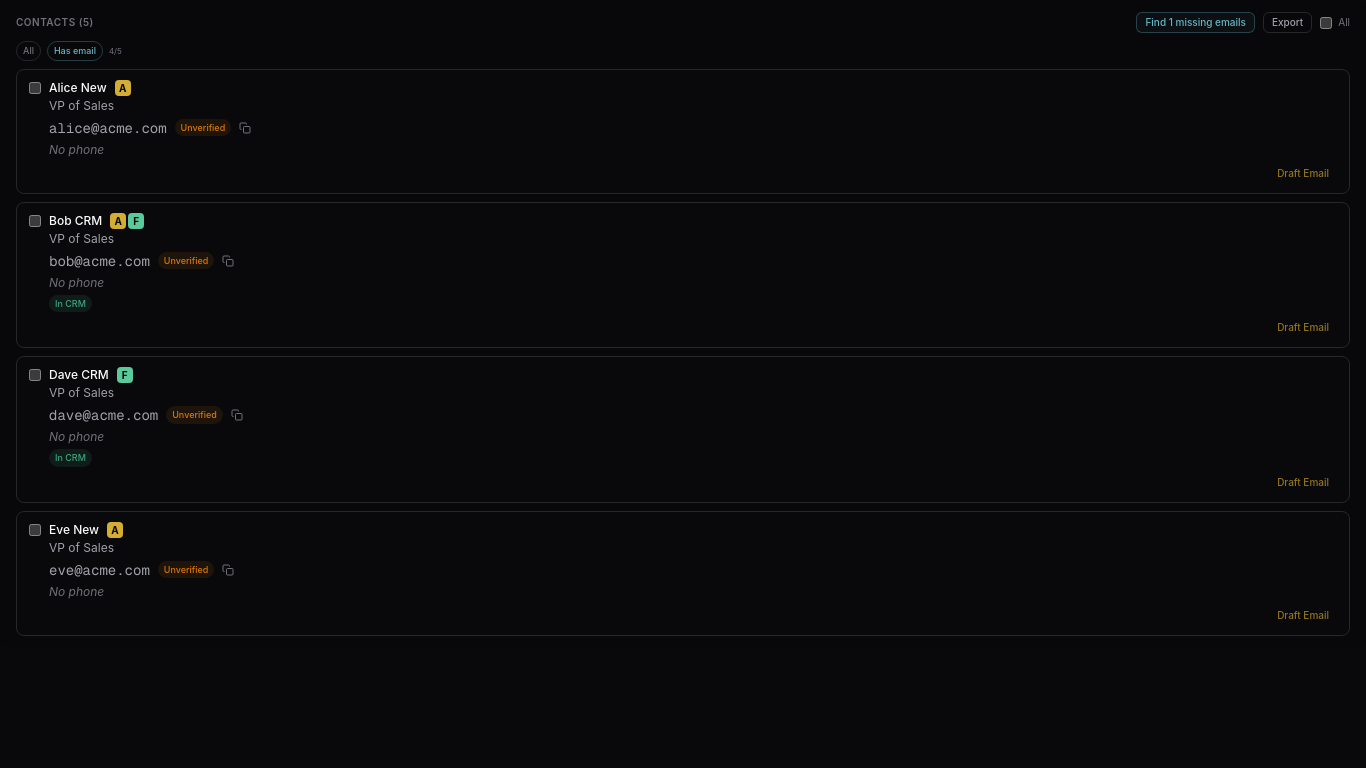
DossierContacts — Source filter & email-only filter › filter count shows 'X/Y' when filter is active
# Activate freshsales filter (2 of 5)
Click the button "All".
click(28, 51)  # box [16, 41, 41, 60]
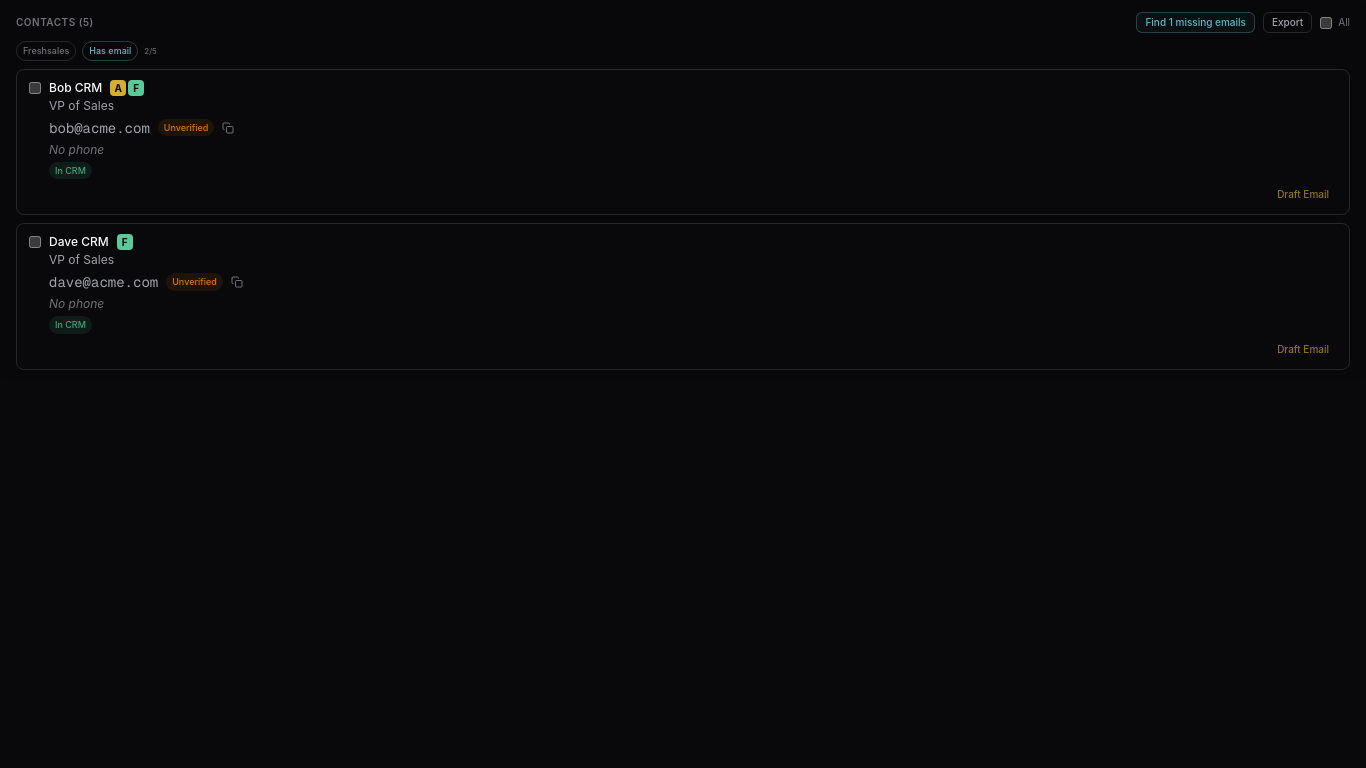
Expected: the text "2/5" is shown, [144, 45, 157, 57]
